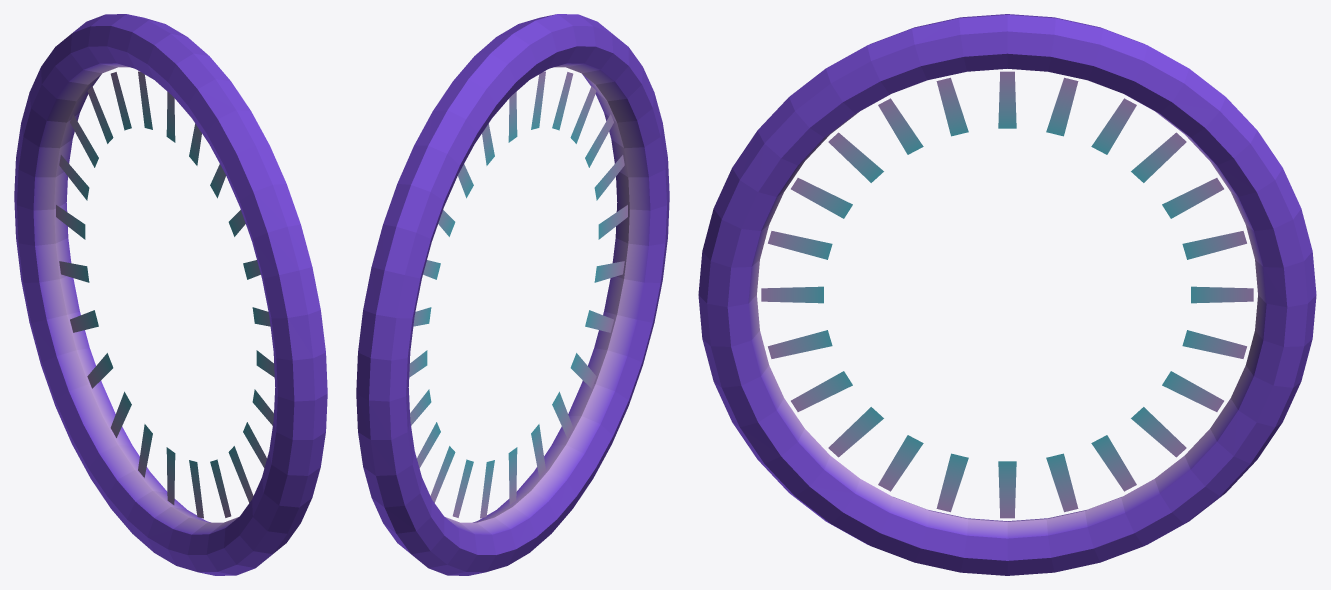
Rendered from portal.obj.
3 renders of one model, left to right at view 1: azimuth 30°, elevation 25°; view 2: azimuth 150°, elevation 25°; view 3: azimuth 270°, elevation 25°, orthographic. The views are drawn at different scales.
Parts seen in each view (by area): view 1: portal; view 2: portal; view 3: portal.
Part boxes in pixels (<box>): portal: <box>14,14,327,575</box>; portal: <box>356,14,669,575</box>; portal: <box>698,14,1316,575</box>.
Size of the model in its own units: 0.7 by 7.4 by 7.4.
